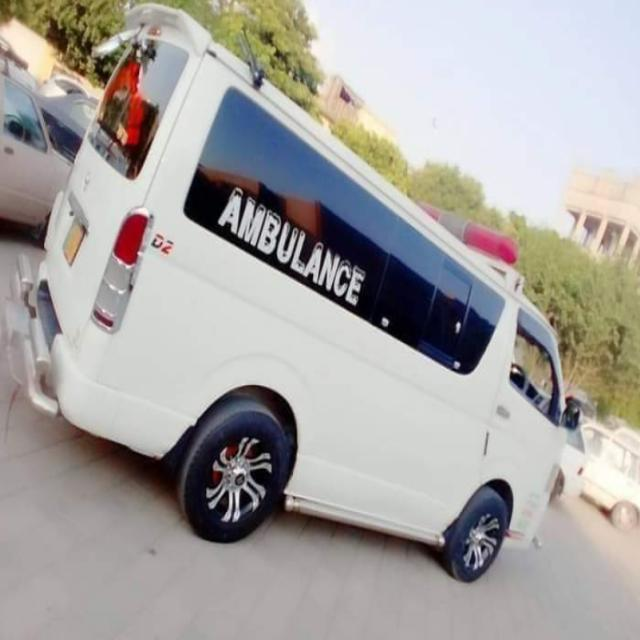ambulance: (32, 69, 551, 535)
